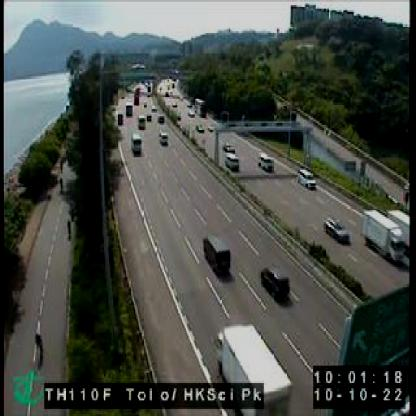Car: (201, 232, 232, 274), (258, 263, 290, 300), (324, 216, 352, 244), (298, 167, 318, 190), (256, 152, 274, 174), (225, 155, 239, 171), (222, 141, 236, 155), (158, 130, 168, 147)
Truck: (214, 323, 293, 414), (362, 210, 406, 268), (131, 131, 141, 153)
